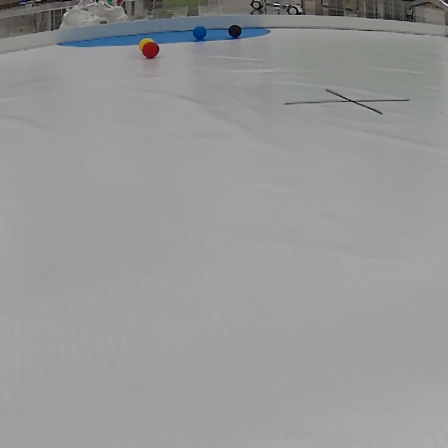black: (226, 23, 243, 36)
blue: (191, 25, 208, 40)
blue_base: (64, 25, 261, 48)
red: (144, 45, 160, 59)
yellow: (140, 37, 154, 43)
